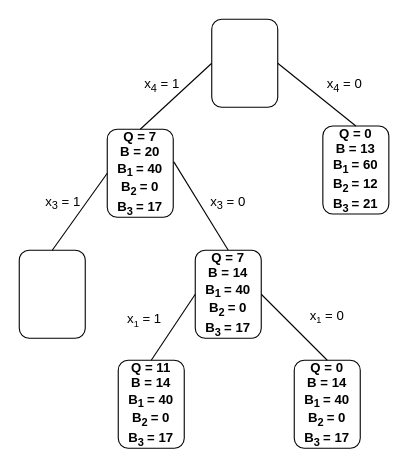
The diagram is 408 pixels wide and 468 high, and some of its shapes have lost their labels. The shapes that lost their labels are listed below. From the top down, each one's box as (x1, y1, x2, y2) in pixels, then its label:
(211, 18, 278, 107): Q = 0 B = 20 B 1 = 60 B 2 = 12 B 3 = 21
(18, 249, 85, 338): Q = 13 B = 20 B 1 = 22 B 2 = -4 B 3 = 11
